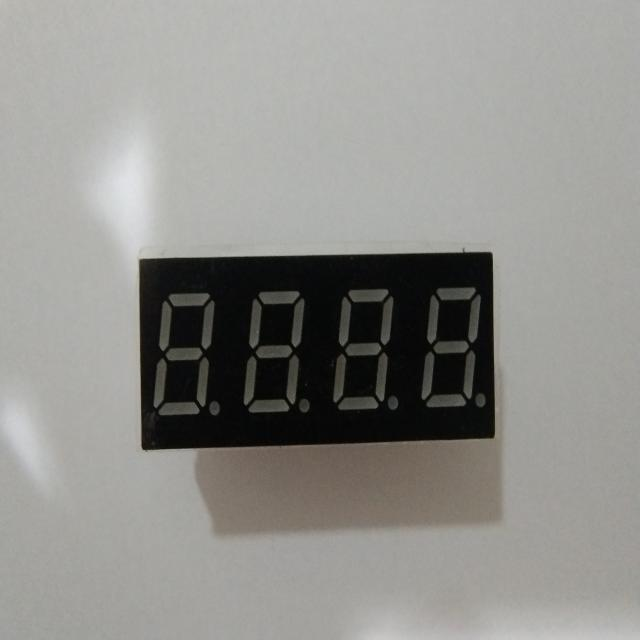7_segments_4_digits: (132, 243, 506, 457)
